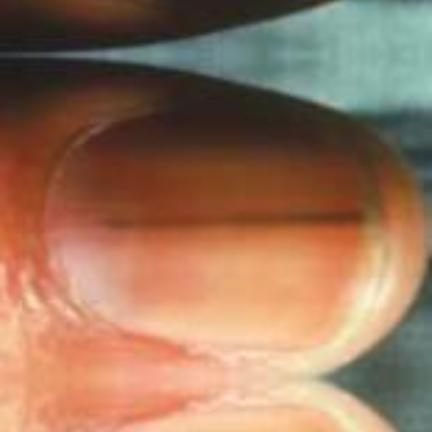Nail: (48, 102, 389, 356), (106, 398, 364, 432), (172, 0, 298, 6)
